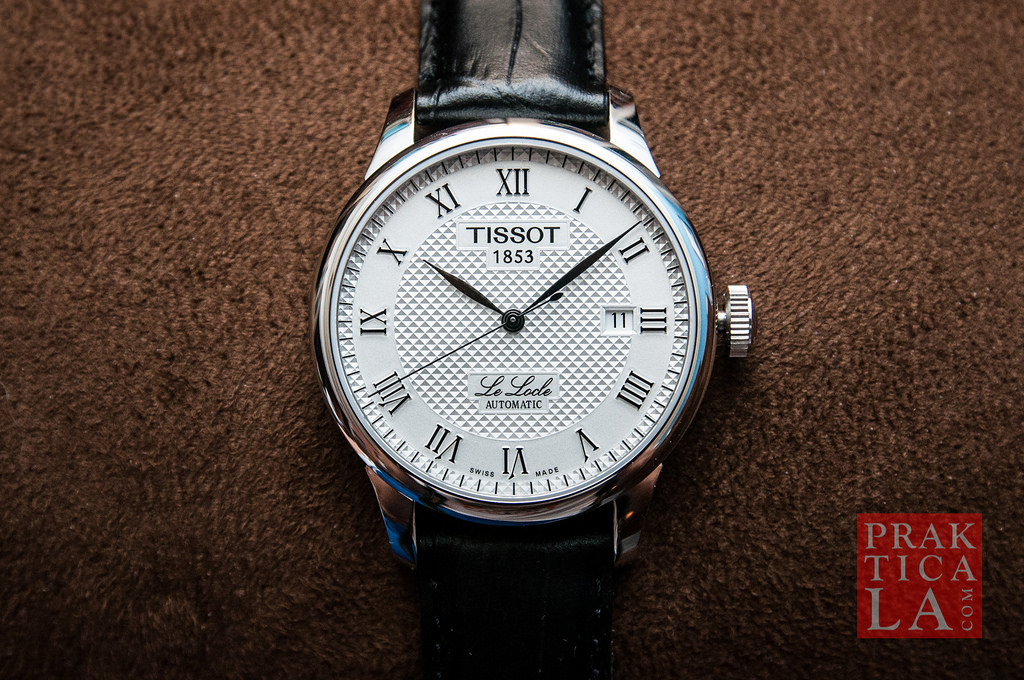clock: (309, 114, 725, 529)
